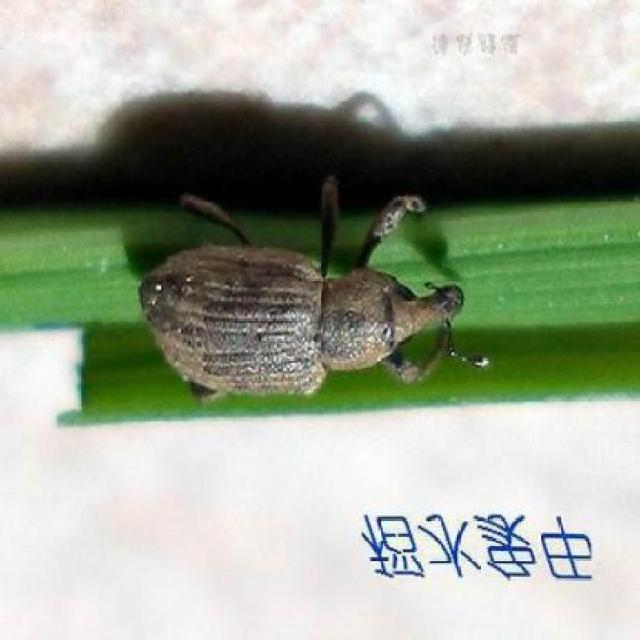rice-bug: (142, 186, 468, 411)
